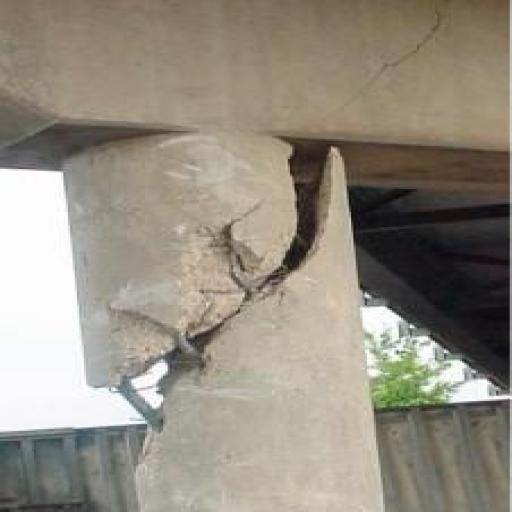spalling: (68, 149, 359, 463)
